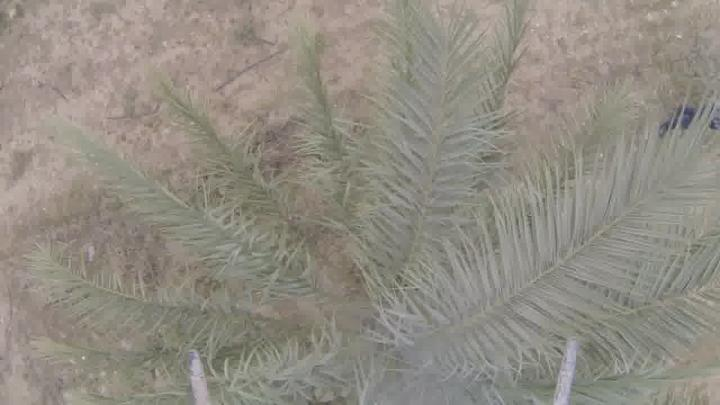Date-Palm-Crown: (192, 93, 634, 405)
